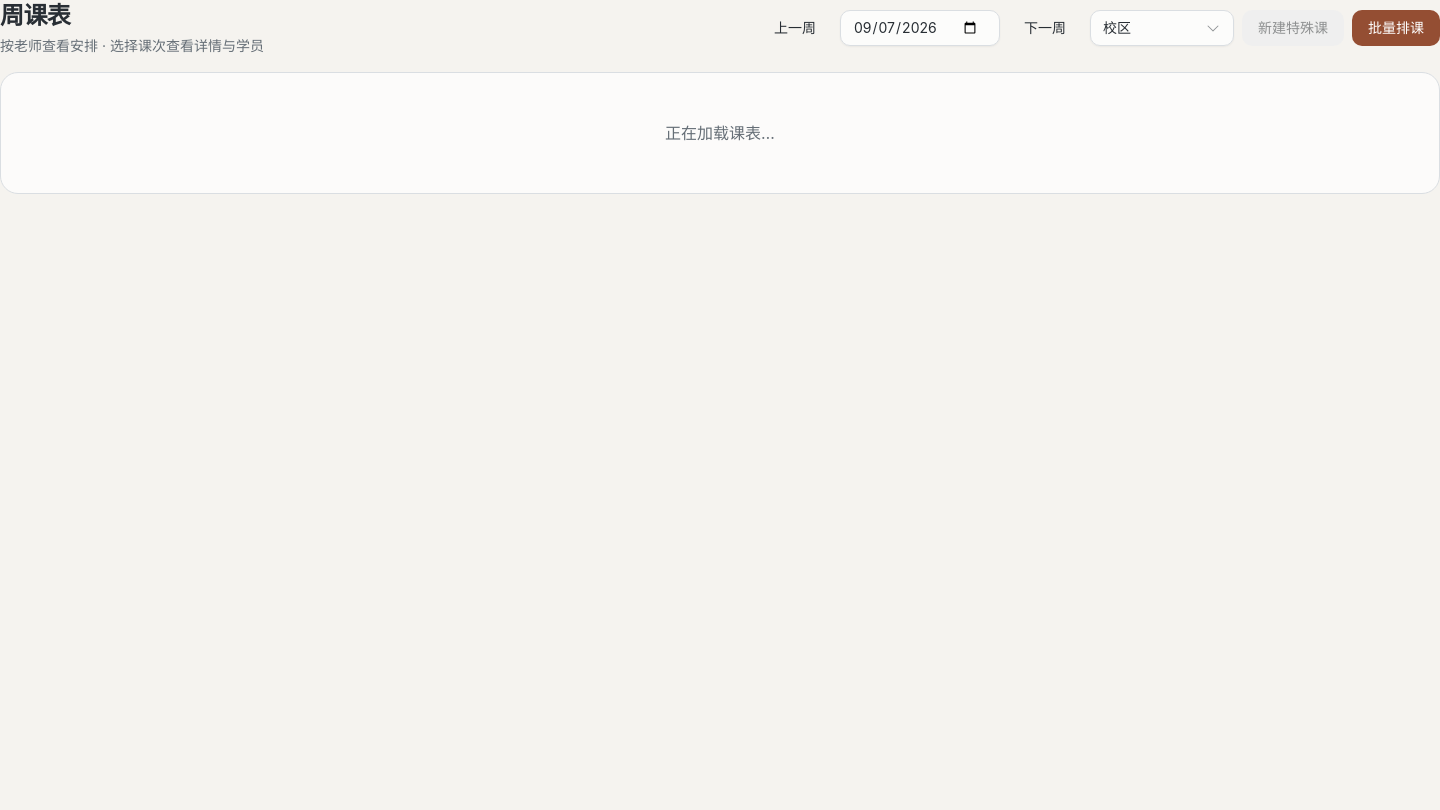
teacher weekly schedule selection › keeps lesson creation available to users with write permission
The width and height of the screenshot is (1440, 810).
Expected: the button "新建特殊课" is shown, [1242, 10, 1344, 46]
Click the button "批量排课". click: (1396, 28)
box: [1352, 10, 1439, 46]
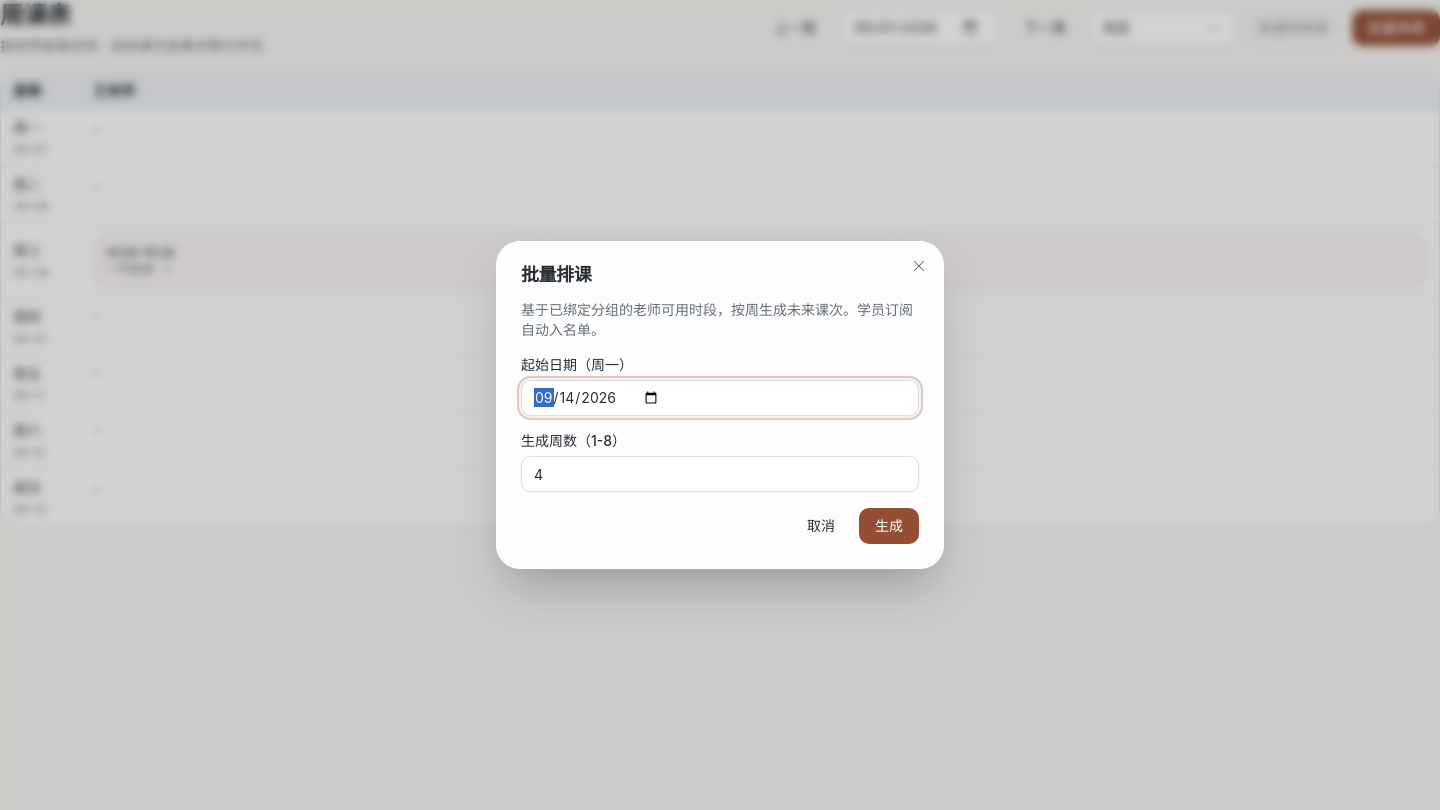
Expected: the dialog "批量排课" is shown, [496, 241, 944, 569]
